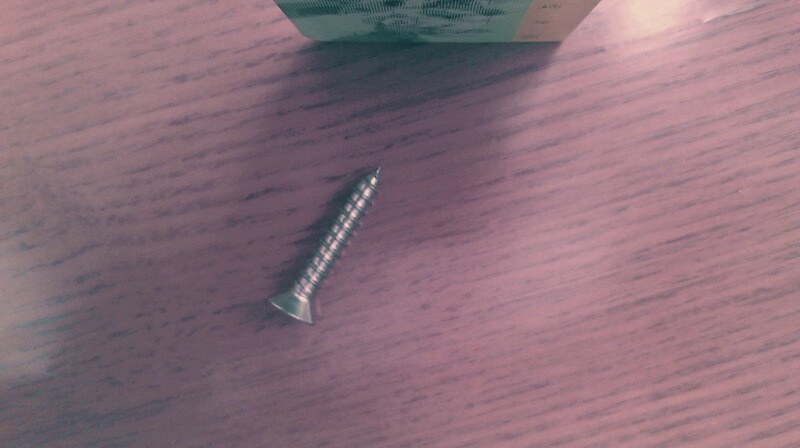S001: (264, 158, 388, 329)
